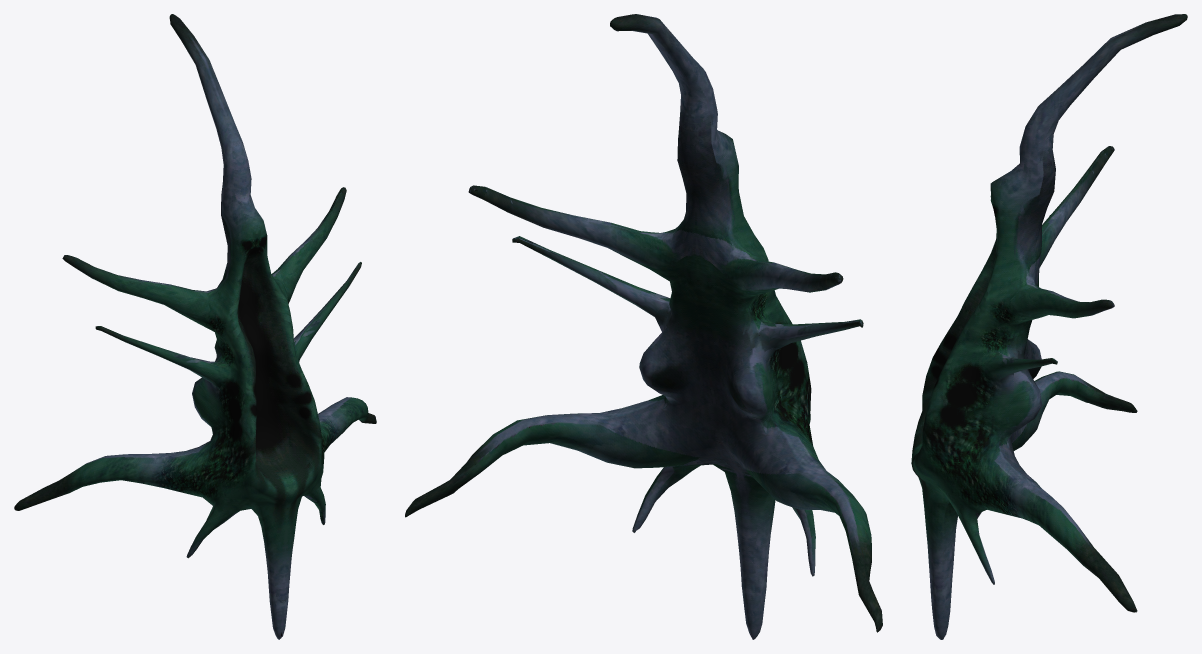
Rendered from Cocoon.glb.
3 renders of one model, left to right at view 1: azimuth 30°, elevation 25°; view 2: azimuth 150°, elevation 25°; view 3: azimuth 270°, elevation 25°, orthographic. The views are drawn at different scales.
Parts seen in each view (by area): view 1: Cocoon; view 2: Cocoon; view 3: Cocoon.
Boxes of the visible parts, left/top/right/bottom form: Cocoon: left=14, top=14, right=376, bottom=639; Cocoon: left=405, top=14, right=882, bottom=639; Cocoon: left=911, top=14, right=1187, bottom=639.
Bounding box in the file's own units: 12.47 × 18.14 × 7.25.
1 material, 1 textured.
